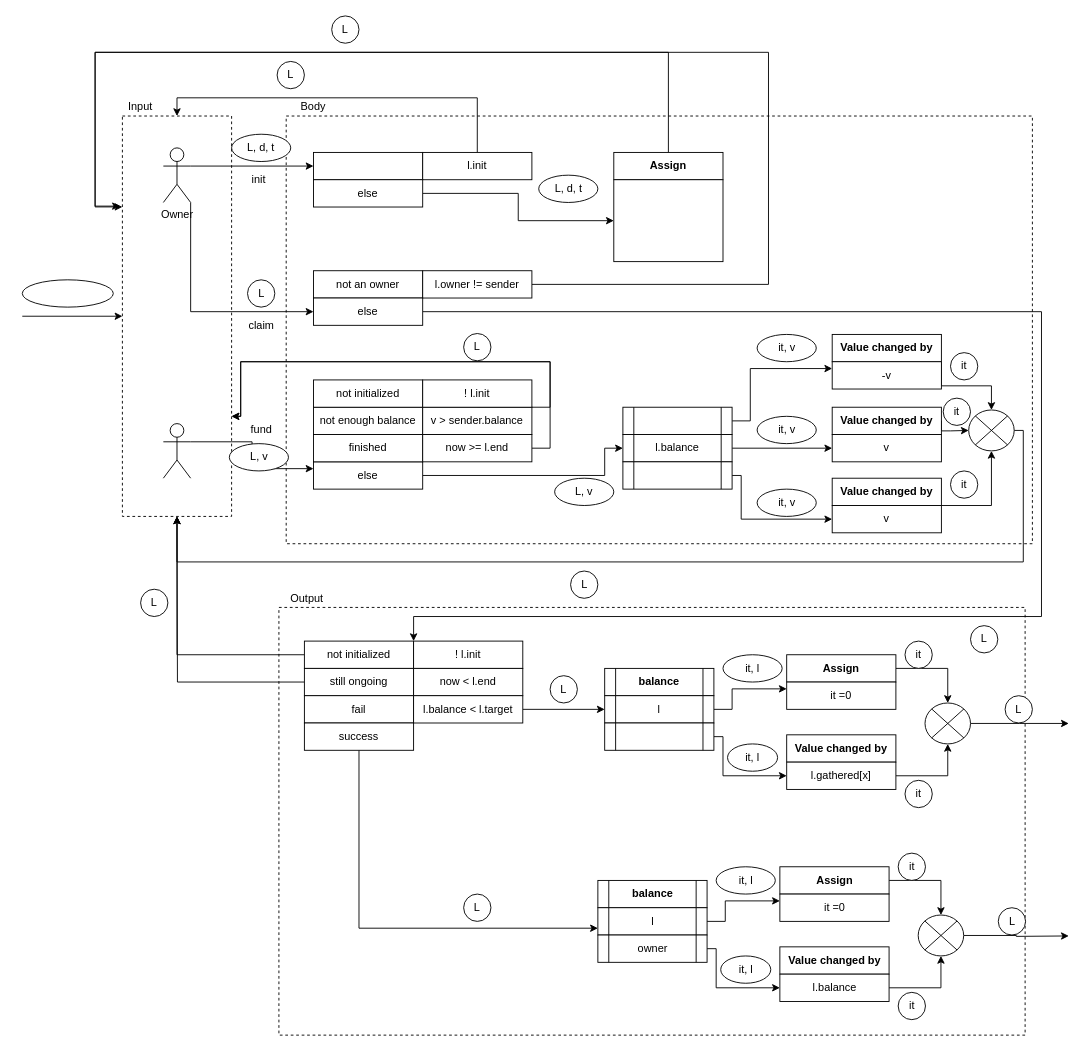
Some shapes in this 1092 by 1051 pixel diagram are drawn without their labels. Each missing label, with the box of its shape:
Funder: (162, 423, 191, 478)
gathered[sender]: (622, 461, 732, 489)
init = true gathered = [] end = d target = t owner = sender balance = 0: (613, 179, 723, 262)
initialized: (313, 152, 423, 180)
L = null: (21, 279, 113, 307)
sender.balance: (622, 406, 732, 435)
x in l.gathered: (604, 722, 714, 750)
